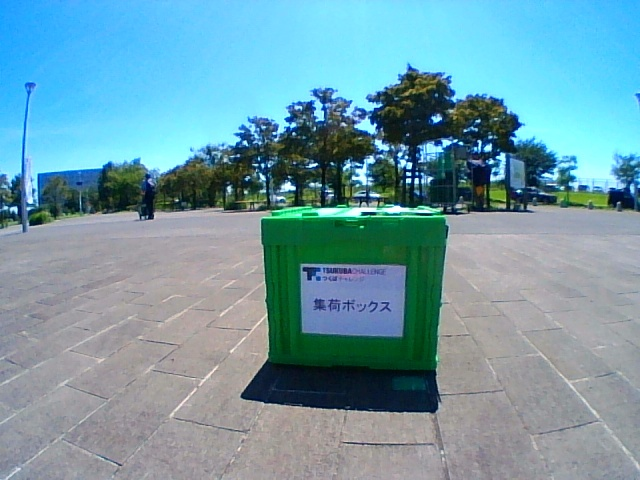green_box: (260, 203, 448, 371)
